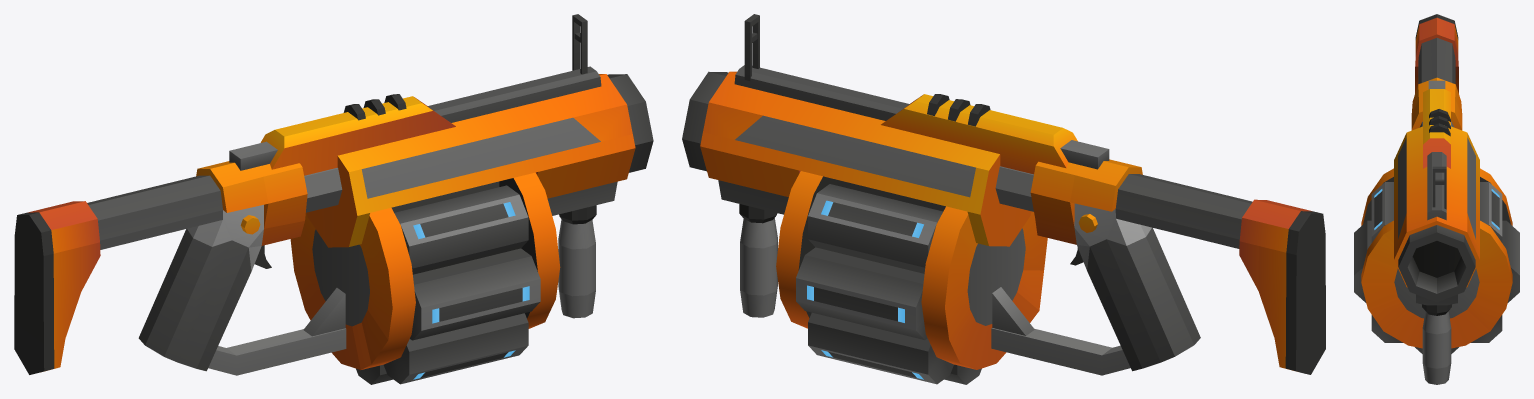
Rendered from GrenadeLauncher_mesh.fbx.
3 views of the same model, side by side, from view 1: azimuth 30°, elevation 25°; view 2: azimuth 150°, elevation 25°; view 3: azimuth 270°, elevation 25° (orthographic). The views are drawn at different scales.
Visible parts, largest first — view 1: GrenadeLauncher_mesh, Grenade_mesh_10, Grenade_mesh_15, Grenade_mesh_9, Grenade_mesh_13; view 2: GrenadeLauncher_mesh, Grenade_mesh_12, Grenade_mesh_1, Grenade_mesh_11, Grenade_mesh_13; view 3: GrenadeLauncher_mesh, Grenade_mesh_15, Grenade_mesh_1, Grenade_mesh_12, Grenade_mesh_10, Grenade_mesh_11, Grenade_mesh_9.
Boxes of the visible parts, bbox=[...] form: GrenadeLauncher_mesh: bbox=[14, 14, 653, 375]; Grenade_mesh_10: bbox=[410, 248, 540, 340]; Grenade_mesh_15: bbox=[394, 185, 528, 274]; Grenade_mesh_9: bbox=[383, 313, 528, 384]; Grenade_mesh_13: bbox=[391, 181, 499, 212]; GrenadeLauncher_mesh: bbox=[682, 14, 1325, 375]; Grenade_mesh_12: bbox=[796, 247, 927, 339]; Grenade_mesh_1: bbox=[808, 184, 942, 273]; Grenade_mesh_11: bbox=[808, 312, 953, 384]; Grenade_mesh_13: bbox=[837, 180, 945, 211]; GrenadeLauncher_mesh: bbox=[1361, 14, 1512, 384]; Grenade_mesh_15: bbox=[1371, 182, 1393, 242]; Grenade_mesh_1: bbox=[1480, 182, 1502, 242]; Grenade_mesh_12: bbox=[1502, 220, 1519, 302]; Grenade_mesh_10: bbox=[1354, 220, 1371, 302]; Grenade_mesh_11: bbox=[1471, 315, 1502, 342]; Grenade_mesh_9: bbox=[1371, 315, 1402, 342].
Bounding box in the file's own units: 63.49 × 31.21 × 20.72.
Materials: 2 (1 with a texture image).
